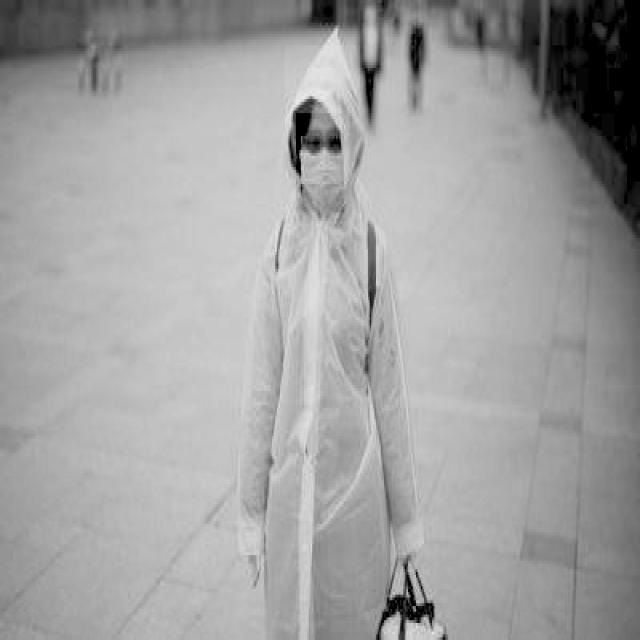face_mask: (296, 113, 346, 215)
glasses: (292, 123, 350, 160)
head_nohelmet: (284, 46, 362, 130)
person: (246, 31, 409, 640)
